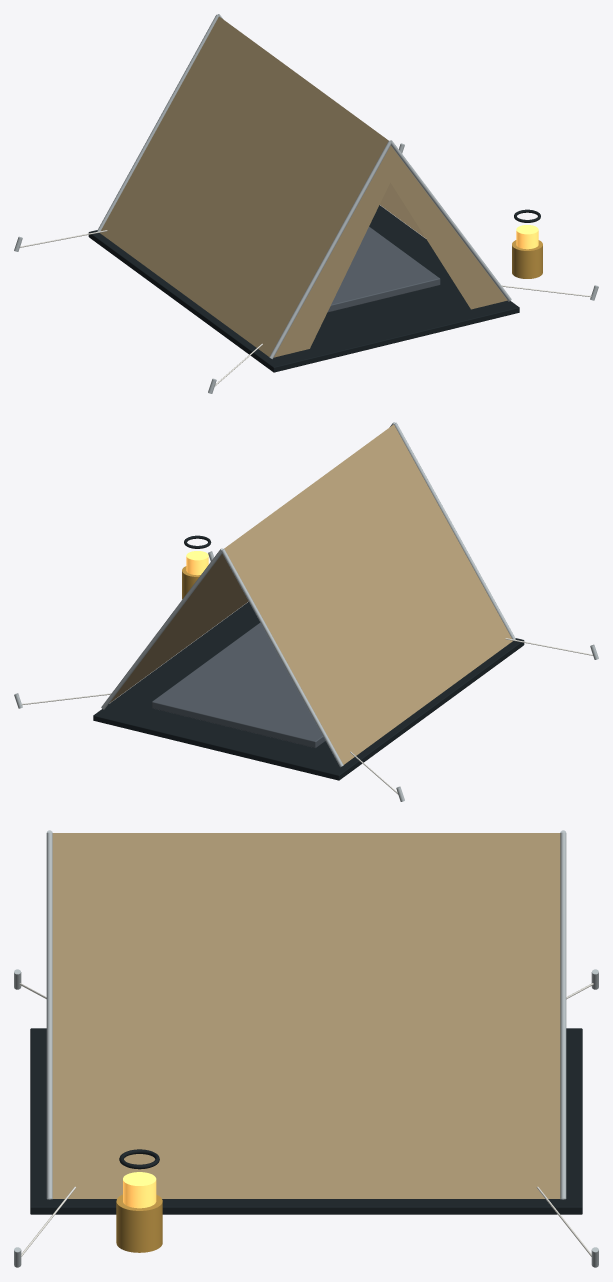
File: camp.glb
3 renders of one model, top to bottom at view 1: azimuth 30°, elevation 25°; view 2: azimuth 150°, elevation 25°; view 3: azimuth 270°, elevation 25°, orthographic. The views are drawn at different scales.
Parts seen in each view (by area): view 1: Main assembly, Camp lantern; view 2: Main assembly; view 3: Main assembly, Camp lantern.
Boxes of the visible parts, box(x1,y1,x2,y2) form: Main assembly: box(14, 14, 598, 393); Camp lantern: box(512, 240, 542, 278); Main assembly: box(14, 422, 598, 801); Main assembly: box(14, 830, 598, 1267); Camp lantern: box(116, 1194, 162, 1252).
Size of the model in its own units: 2.61 by 1.27 by 2.28.
